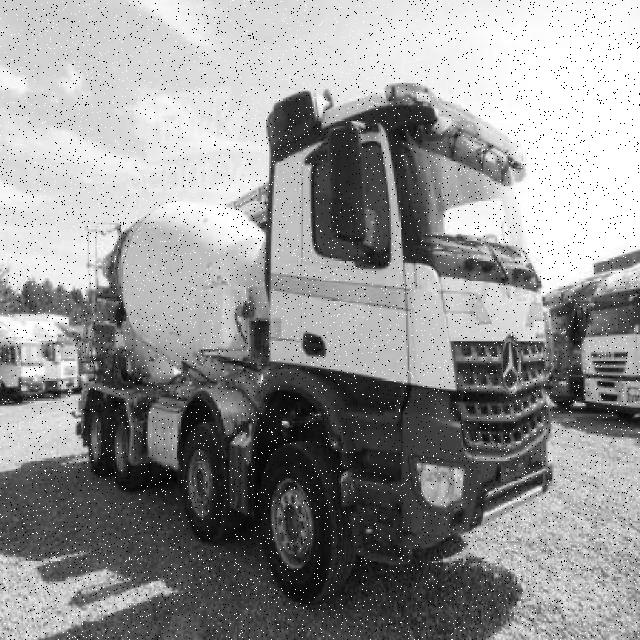Concrete Mixer: (76, 85, 555, 610)
